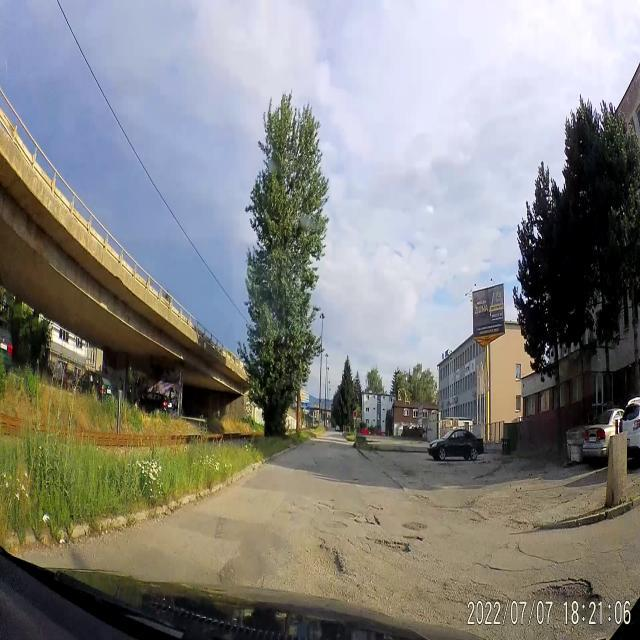Manhole: (401, 520, 429, 531), (332, 508, 356, 520)
Pothole: (531, 572, 605, 620), (320, 543, 348, 578), (366, 536, 412, 556), (356, 514, 384, 530), (366, 502, 386, 512), (402, 534, 424, 542), (316, 498, 331, 509), (468, 517, 481, 527), (351, 475, 361, 483)
